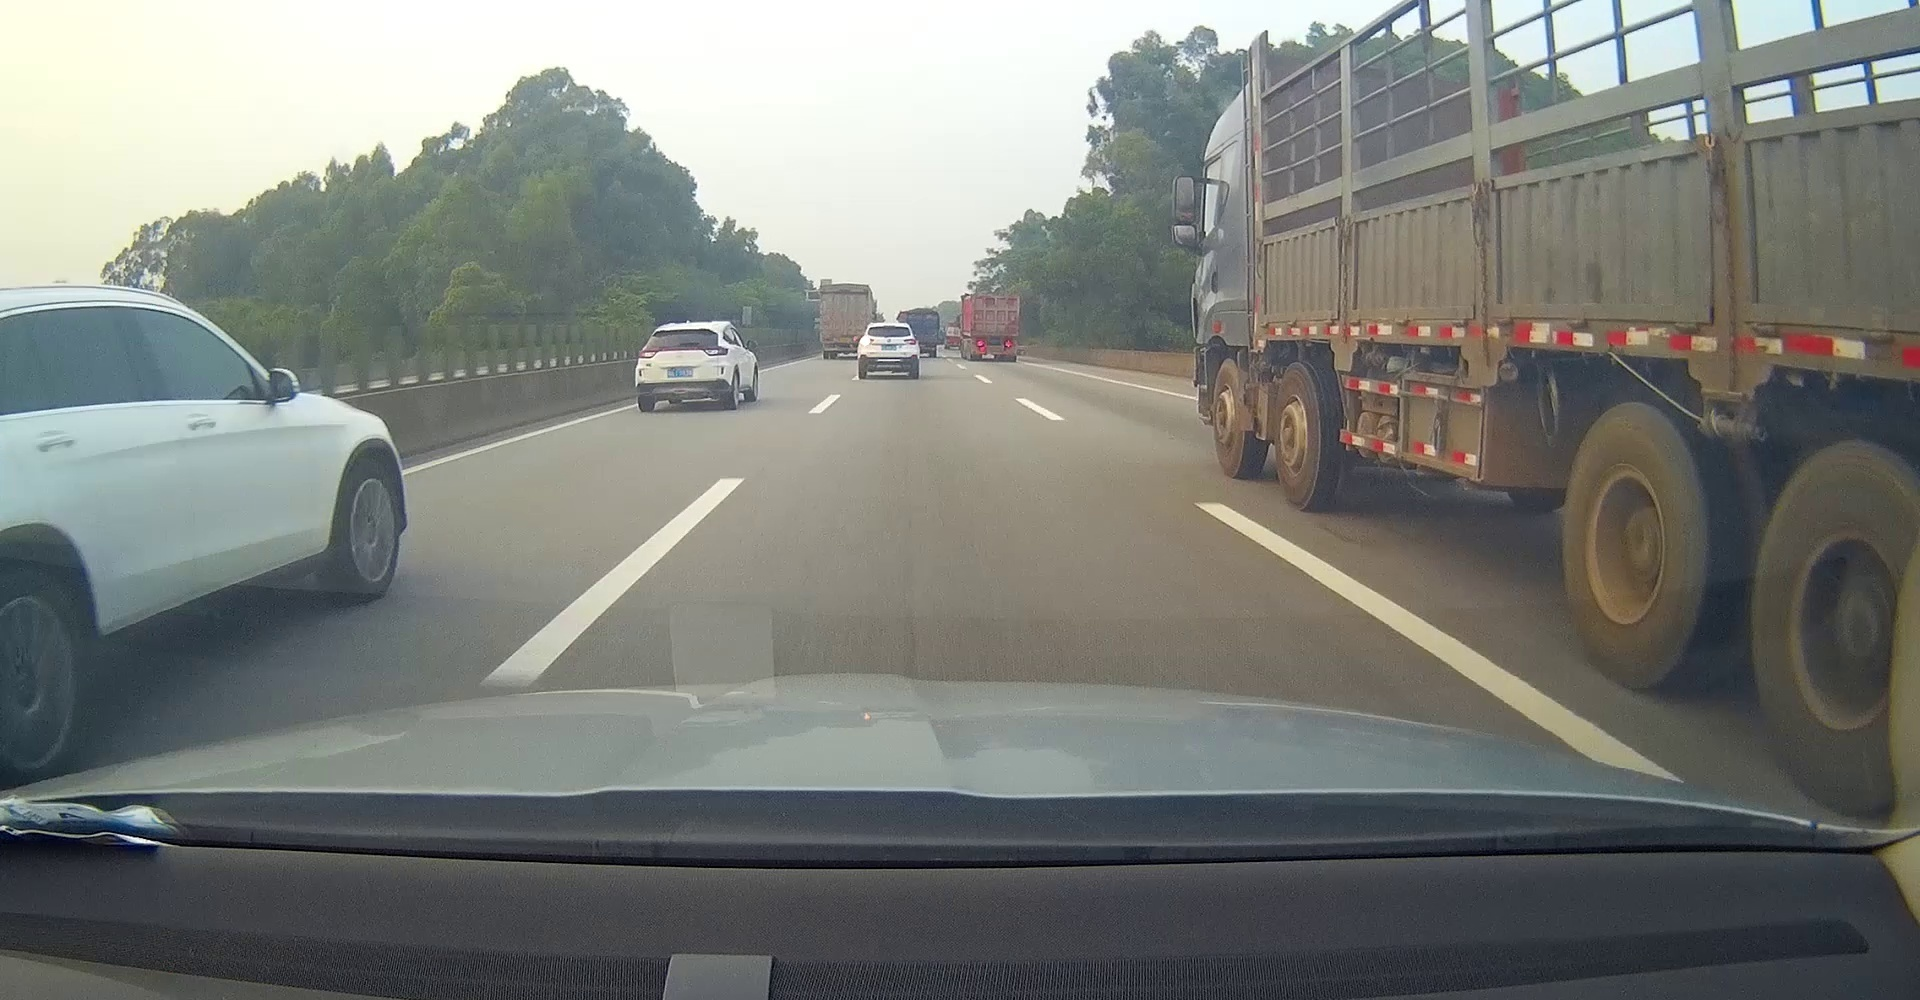L_light: (639, 349, 657, 358), (860, 338, 872, 345), (975, 341, 985, 346)
R_light: (703, 346, 728, 357), (903, 338, 917, 346), (1004, 341, 1013, 346)
T_light: (676, 329, 690, 332), (884, 325, 897, 329), (992, 297, 1001, 299)
day-brake: (970, 294, 1020, 364)
day-no: (634, 322, 731, 412), (858, 322, 919, 379)
